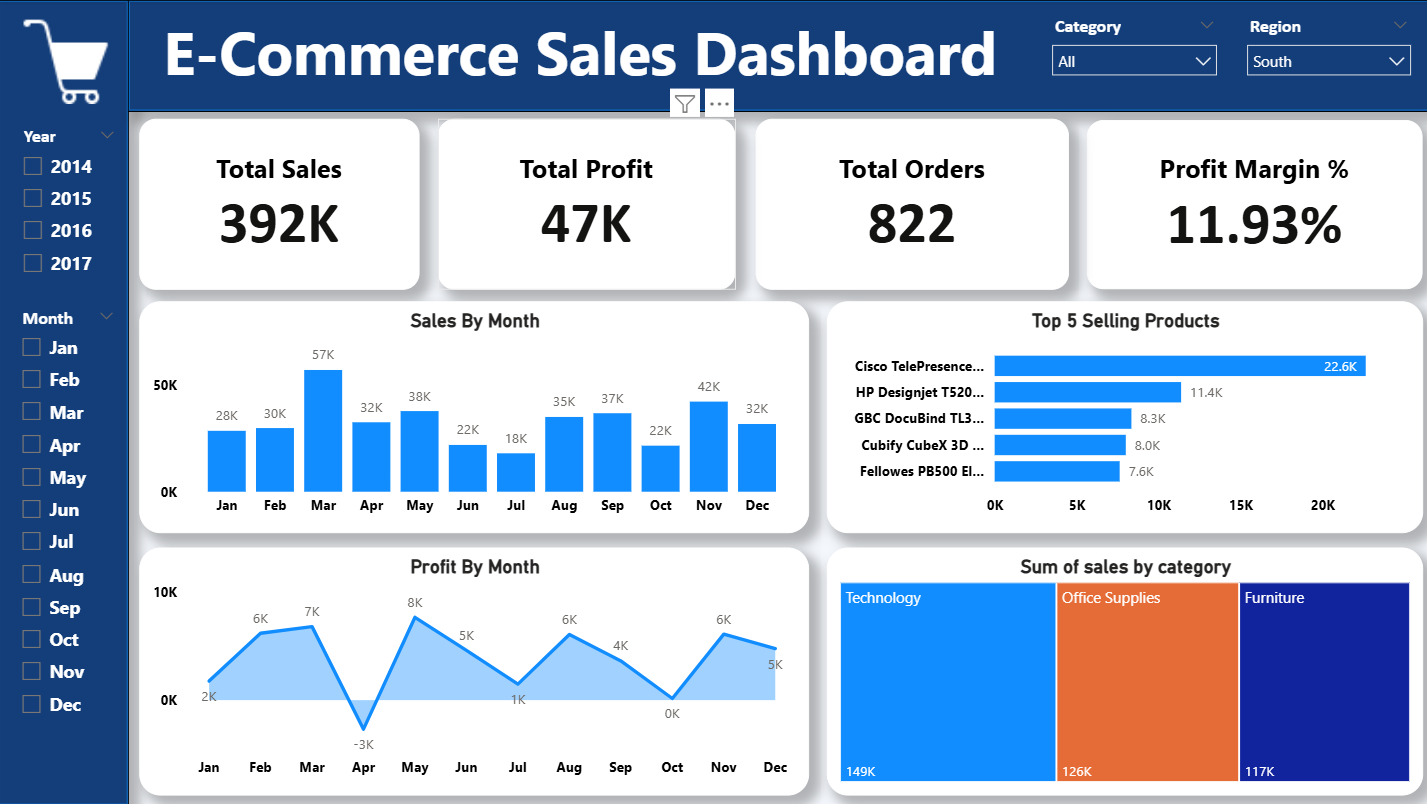

This screenshot's page, from the dashboard's own definition file:
{"tool":"powerbi","page":{"name":"Page 1","canvas":[1280,720],"ordinal":0},"visuals":[{"type":"shape","box":[0,0,117.1,720],"z":0},{"type":"image","box":[147.1,21.4,84.3,77.1],"z":1000},{"type":"shape","box":[115.7,0,1164.3,100],"z":2000},{"type":"slicer","fields":{"Values":["cleaned_dataset.Year"]},"box":[10,106.7,106.7,153.3],"z":3000},{"type":"textbox","box":[117.1,4.3,805.7,91.4],"z":4000},{"type":"slicer","fields":{"Values":["cleaned_dataset.Month"]},"box":[8.6,268.6,107.1,444.3],"z":5000},{"type":"slicer","fields":{"Values":["cleaned_dataset.category"]},"box":[931.4,8.6,167.9,90.7],"z":6000},{"type":"slicer","fields":{"Values":["cleaned_dataset.region"]},"box":[1105.7,8.6,166.4,90.7],"z":7000},{"type":"cardVisual","fields":{"Data":["cleaned_dataset.Total Sales"]},"box":[125.7,105.7,250,152.9],"z":8000},{"type":"cardVisual","fields":{"Data":["cleaned_dataset.Profit Margin %"]},"box":[972.9,107.1,300,151.4],"z":9000},{"type":"cardVisual","fields":{"Data":["cleaned_dataset.Total Orders"]},"box":[677.1,105.7,280,152.9],"z":10000},{"type":"cardVisual","fields":{"Data":["cleaned_dataset.Total Profit"]},"box":[392.9,105.7,265.7,152.9],"z":11000},{"type":"columnChart","title":"Sales By Month","fields":{"Y":["Sum(cleaned_dataset.sales)"],"Category":["cleaned_dataset.Month"]},"box":[125.7,268.6,598.6,207.1],"z":12000},{"type":"areaChart","title":"Profit By Month","fields":{"Category":["cleaned_dataset.Month"],"Y":["Sum(cleaned_dataset.profit)"]},"box":[125.7,488.6,598.6,221.4],"z":13000},{"type":"clusteredBarChart","title":"Top 5 Selling Products","fields":{"Category":["cleaned_dataset.product_name"],"Y":["Sum(cleaned_dataset.sales)"]},"box":[740,268.6,532.9,207.1],"z":14000},{"type":"treemap","fields":{"Group":["cleaned_dataset.category"],"Values":["Sum(cleaned_dataset.sales)"]},"box":[740,488.6,532.9,221.4],"z":15000},{"type":"image","box":[15.7,14.3,92.9,78.6],"z":16000}]}

Visuals, with their boxes in screenshot pixels (x1, y1, x2, y2), scaled from the page's 1280x720 canvas onto the 1427x804 screenshot:
shape: 0,0,131,803
image: 164,24,258,110
shape: 129,0,1426,112
slicer - cleaned_dataset.Year: 11,119,130,290
textbox: 131,5,1029,107
slicer - cleaned_dataset.Month: 10,300,129,796
slicer - cleaned_dataset.category: 1038,10,1226,111
slicer - cleaned_dataset.region: 1233,10,1418,111
cardVisual - cleaned_dataset.Total Sales: 140,118,419,289
cardVisual - cleaned_dataset.Profit Margin %: 1085,120,1419,289
cardVisual - cleaned_dataset.Total Orders: 755,118,1067,289
cardVisual - cleaned_dataset.Total Profit: 438,118,734,289
"Sales By Month" columnChart: 140,300,807,531
"Profit By Month" areaChart: 140,546,807,793
"Top 5 Selling Products" clusteredBarChart: 825,300,1419,531
treemap - cleaned_dataset.category x Sum(cleaned_dataset.sales): 825,546,1419,793
image: 18,16,121,104
